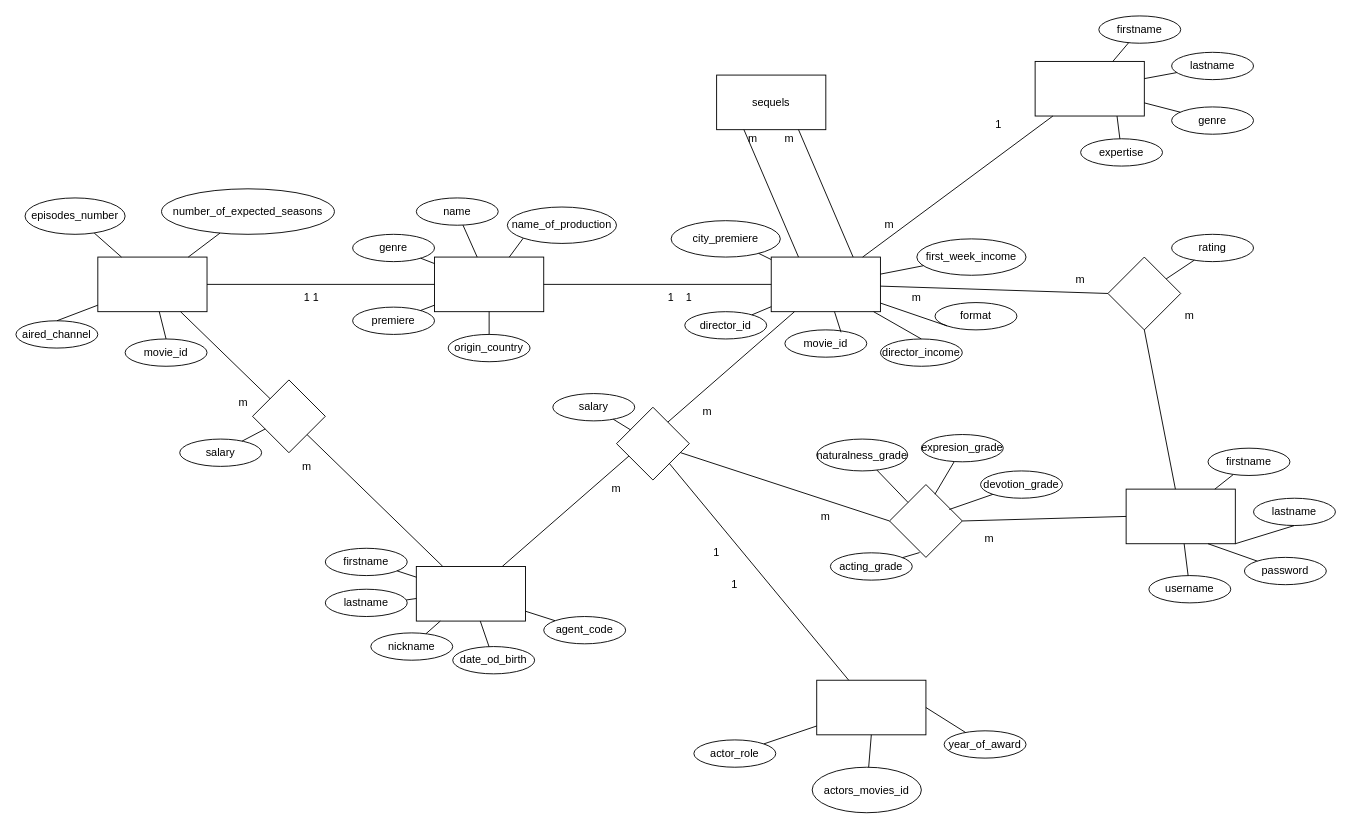
Image size: 1351x829. Some labels were removed from this diagram. Each missing label, with the box of its shape:
actor_critics: (889, 484, 962, 557)
actor_films: (616, 406, 689, 480)
actor_tv_series: (252, 379, 325, 453)
actors: (415, 566, 526, 621)
critics: (1125, 488, 1235, 544)
directors: (1034, 61, 1144, 116)
film_critics: (1107, 256, 1181, 330)
films: (770, 256, 880, 312)
movies: (434, 256, 544, 312)
oscar_winners: (816, 679, 926, 735)
tv_series: (97, 256, 207, 312)
